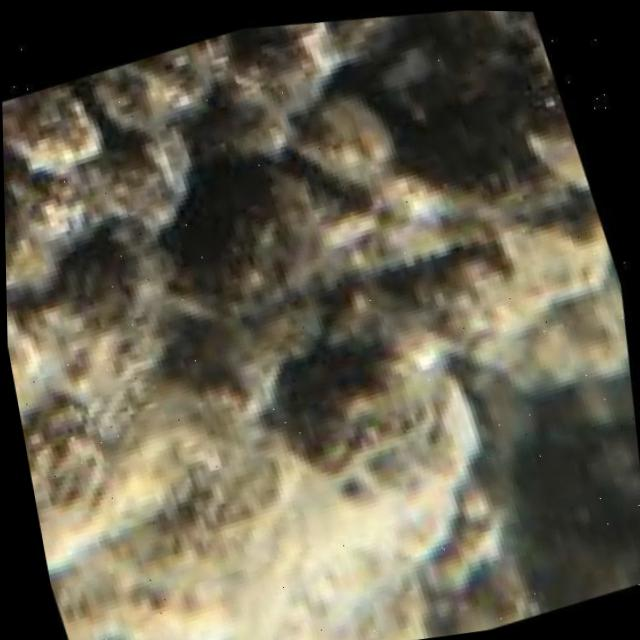Dead Coral: (0, 0, 628, 401)
